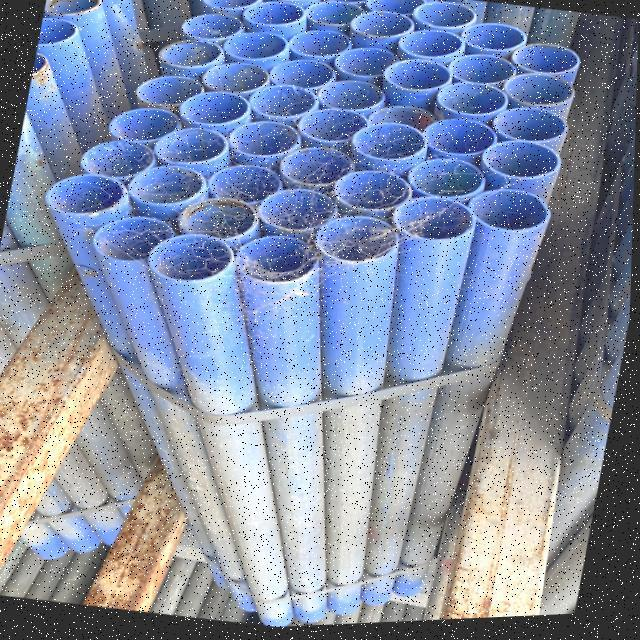pipe: (239, 236, 325, 286), (260, 189, 341, 242), (149, 237, 234, 286), (97, 215, 182, 264), (319, 217, 403, 264), (207, 167, 297, 209), (274, 147, 356, 192), (471, 194, 554, 238), (479, 142, 562, 186), (132, 167, 211, 213), (396, 200, 474, 246), (177, 198, 258, 242), (79, 139, 160, 183), (45, 173, 124, 217), (488, 111, 571, 152), (336, 172, 413, 216), (353, 123, 430, 167), (133, 76, 217, 115), (107, 108, 195, 145), (428, 121, 507, 161), (234, 118, 307, 161), (411, 162, 487, 203), (179, 93, 253, 135), (439, 83, 518, 121), (154, 129, 233, 167), (298, 107, 372, 147), (200, 59, 274, 98), (329, 49, 413, 82), (252, 84, 323, 123), (442, 58, 527, 90), (178, 11, 249, 46), (388, 59, 457, 95), (317, 82, 388, 116), (267, 60, 344, 91), (158, 38, 226, 73), (514, 47, 582, 81), (349, 13, 423, 42), (292, 31, 357, 64), (366, 109, 440, 137), (225, 32, 291, 63), (509, 80, 574, 111), (467, 27, 532, 58), (244, 2, 310, 30), (405, 33, 467, 61), (307, 3, 370, 30), (416, 7, 480, 33), (368, 0, 428, 20), (41, 19, 84, 43), (46, 0, 107, 15), (203, 0, 264, 14), (257, 0, 328, 11), (321, 0, 378, 9)
